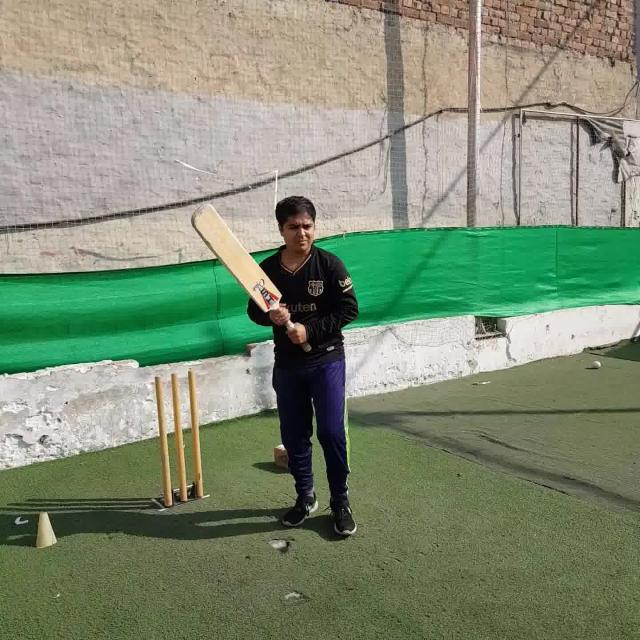ball: (594, 361, 602, 368)
bat: (193, 202, 310, 351)
